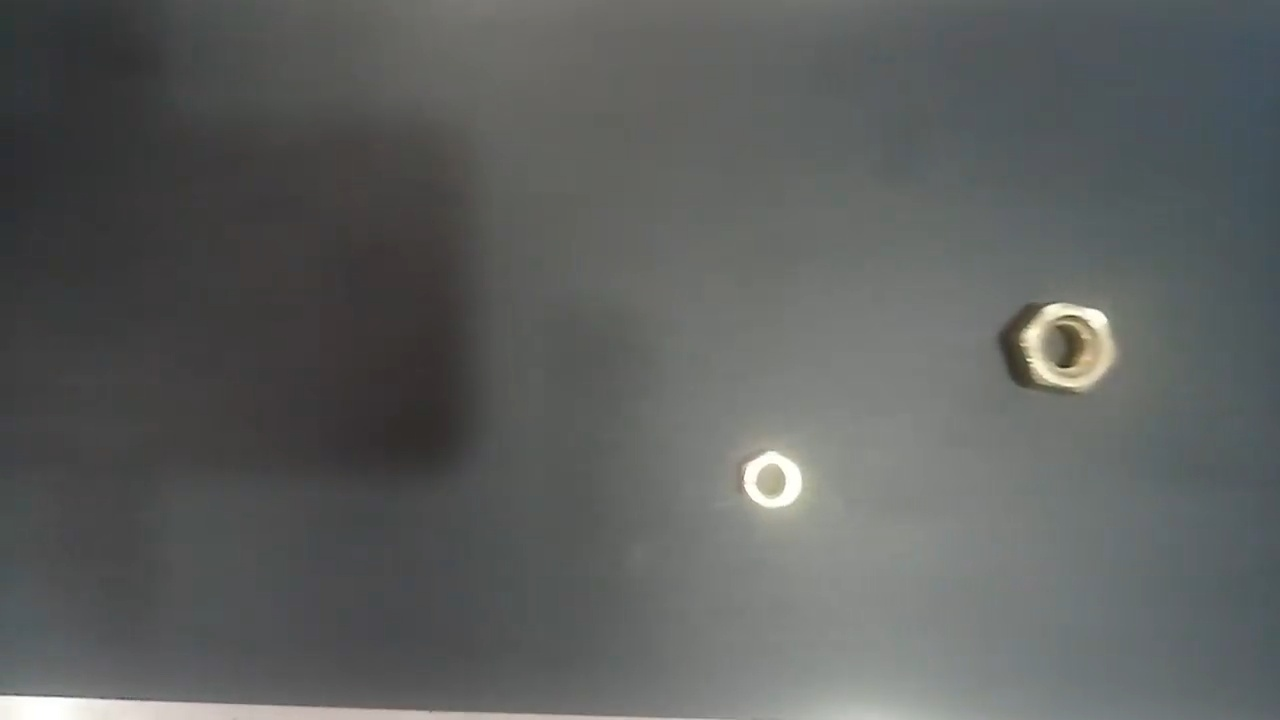Bolt: (1019, 301, 1121, 401), (739, 451, 804, 510)
